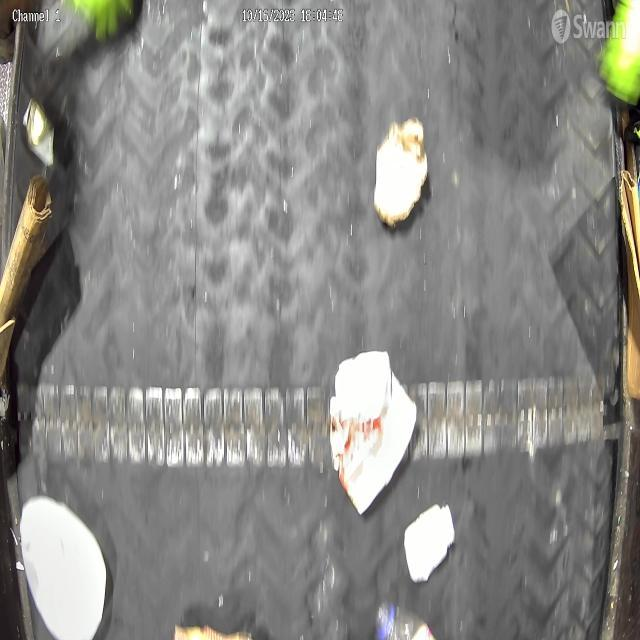milk_jug: (20, 495, 109, 640)
